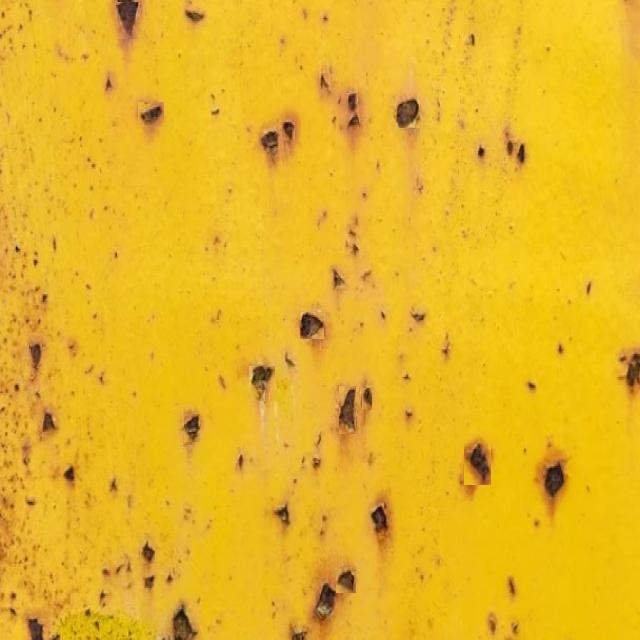Corrosion: (464, 442, 493, 486), (339, 388, 357, 432), (173, 609, 197, 640), (251, 366, 274, 398), (545, 463, 566, 498), (315, 585, 336, 620), (397, 98, 420, 128), (118, 0, 138, 34), (300, 313, 324, 339), (372, 505, 389, 534), (337, 571, 357, 594), (183, 415, 200, 442), (627, 353, 640, 388), (140, 103, 163, 122), (261, 130, 279, 152), (29, 344, 41, 370), (28, 620, 43, 640), (41, 412, 56, 432), (275, 505, 289, 526), (142, 543, 155, 564), (185, 8, 204, 22), (333, 268, 345, 288), (284, 121, 295, 140), (363, 388, 373, 408), (489, 614, 498, 636), (348, 92, 358, 110), (518, 143, 527, 162), (348, 113, 361, 126), (63, 467, 74, 482), (412, 312, 427, 322), (285, 353, 295, 368), (291, 631, 307, 640), (321, 73, 330, 88), (510, 578, 517, 596), (144, 578, 154, 590), (405, 408, 415, 420), (507, 140, 515, 154), (313, 458, 322, 470), (237, 455, 244, 470), (352, 243, 360, 256), (478, 146, 486, 158), (316, 433, 322, 448), (513, 624, 520, 636), (587, 281, 592, 296), (529, 382, 537, 390), (559, 344, 565, 354), (403, 373, 411, 380), (382, 311, 387, 320), (323, 14, 329, 20)
